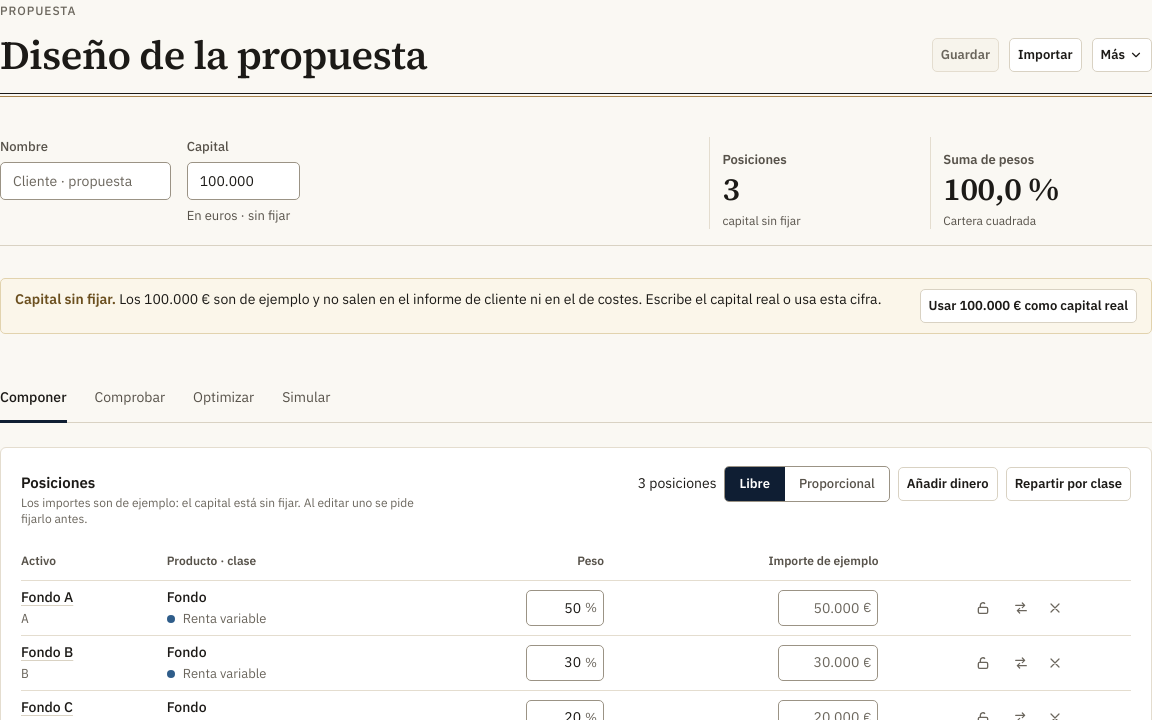
Test: hallazgo 53: se conserva al cambiar de pantalla › candados, modo y paso vuelven al remontar, como al ir al Buscador y volver
Click the button named "Bloquear el peso de Fondo A": (983, 608) [966,591,1000,625]
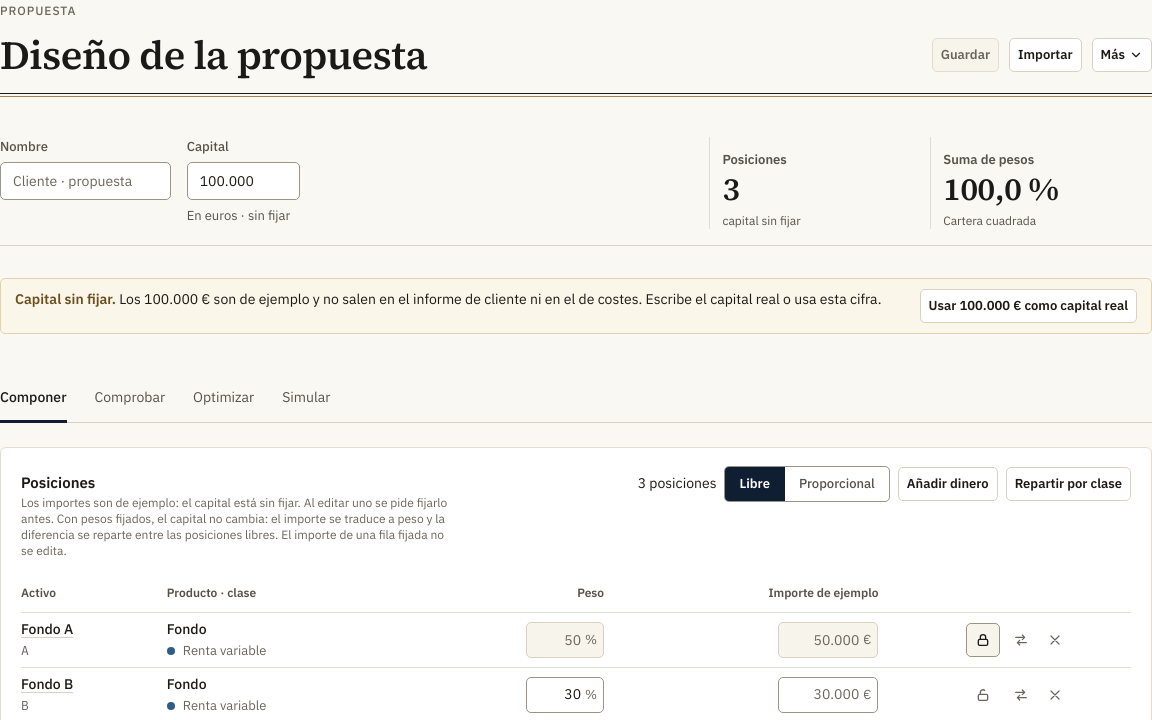
Click the button "Proporcional": (836, 484) [784,467,889,501]
(page scrolled)
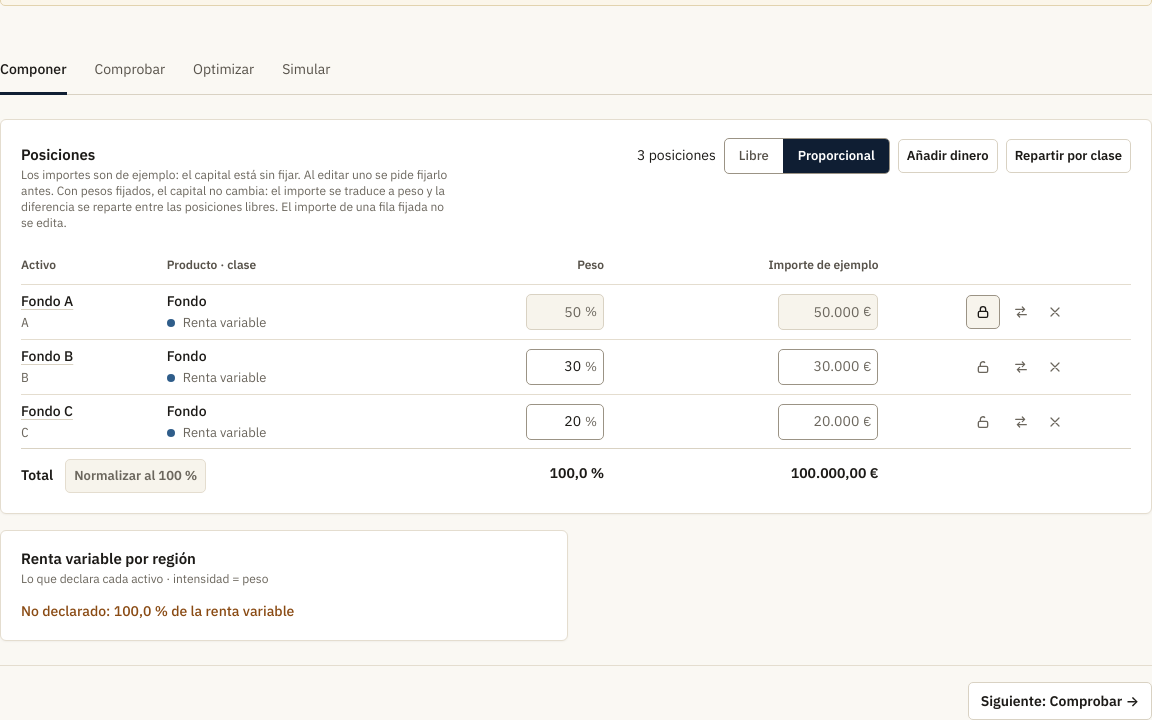
Click the button "Siguiente: Comprobar →": (1060, 701) [968,682,1151,719]
(page scrolled)
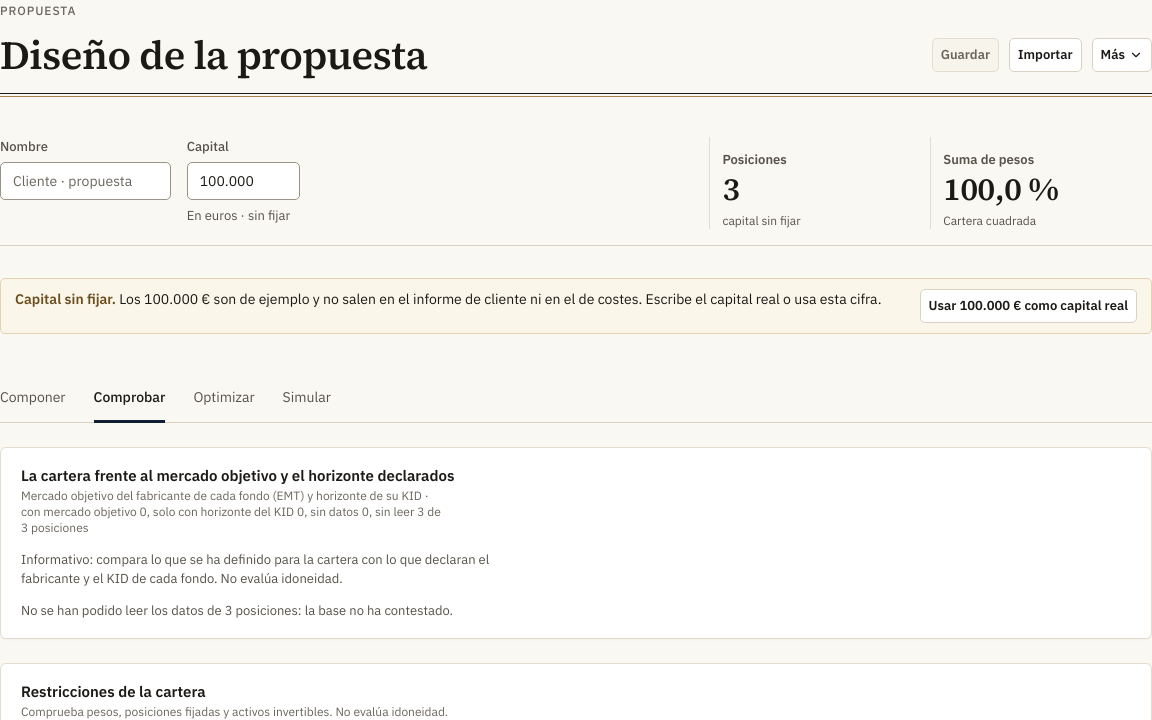
Expected: the tab "Comprobar" is shown, [94,374,165,422]
Click the tab "Componer": (33, 398) [0,374,66,422]
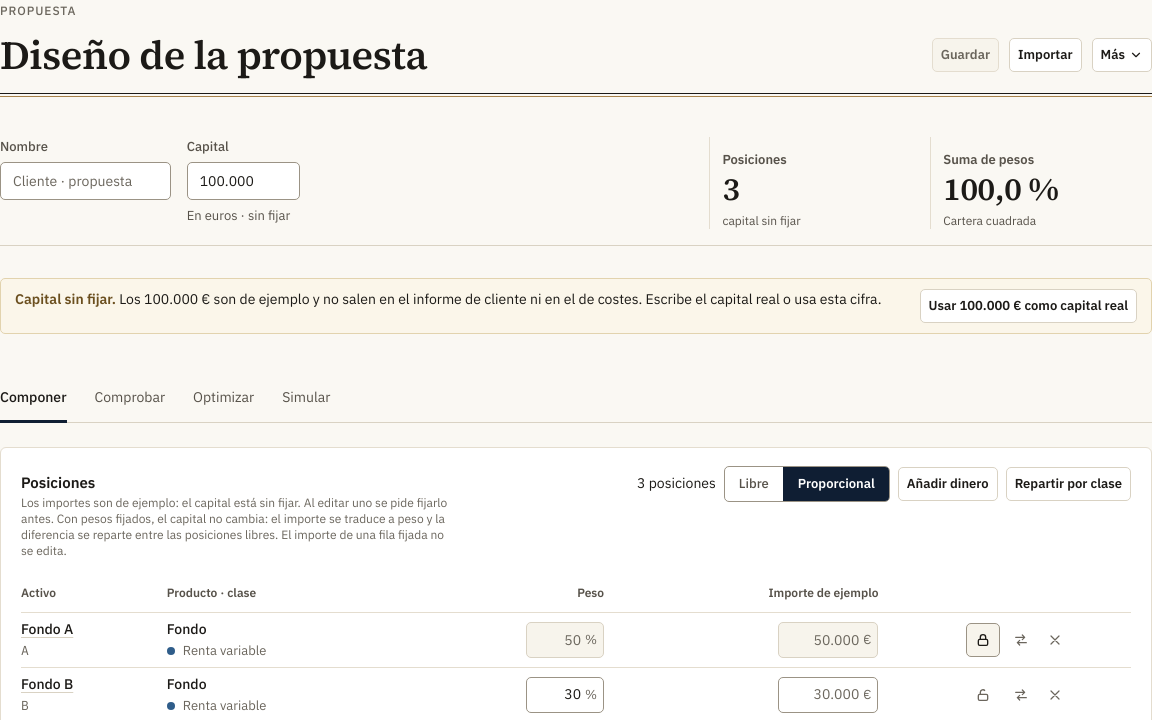
Expected: the number of buttons with class "locked" is 1, [966,623,1000,657]
